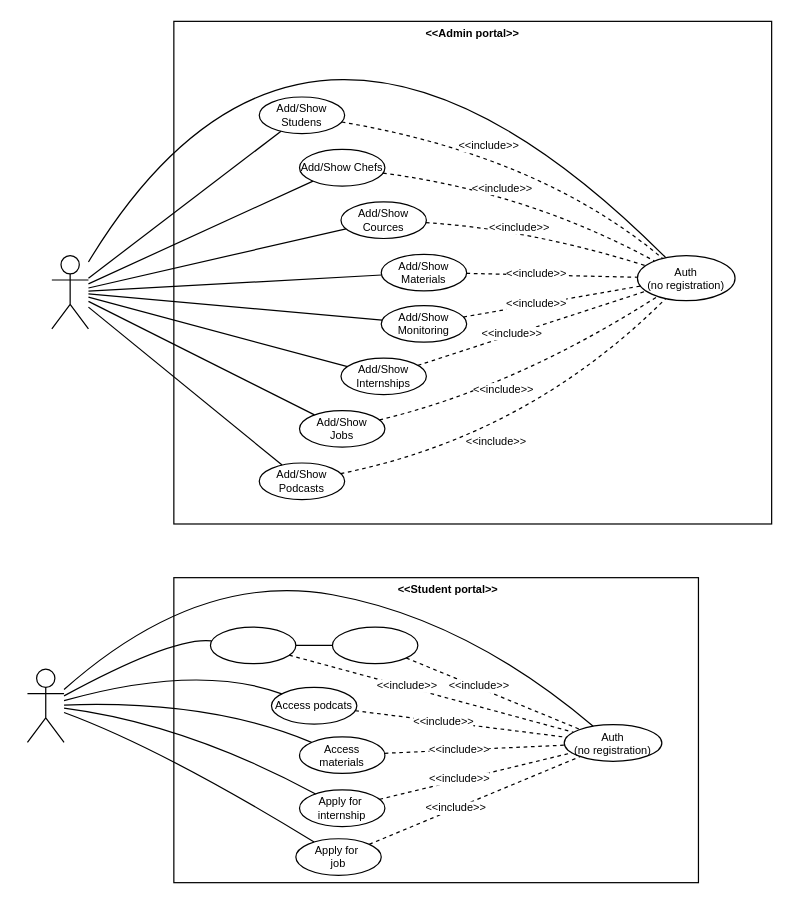
The diagram is 793 pixels wide and 904 high, and some of its shapes have lost their labels. The shapes that lost their labels are listed below. From the top down, each one's centre as x and y in pixels, then its label:
At (x=69, y=291): "Admin".
At (x=252, y=645): "Access videos".
At (x=374, y=645): "Watch video".
At (x=45, y=705): "Student".
